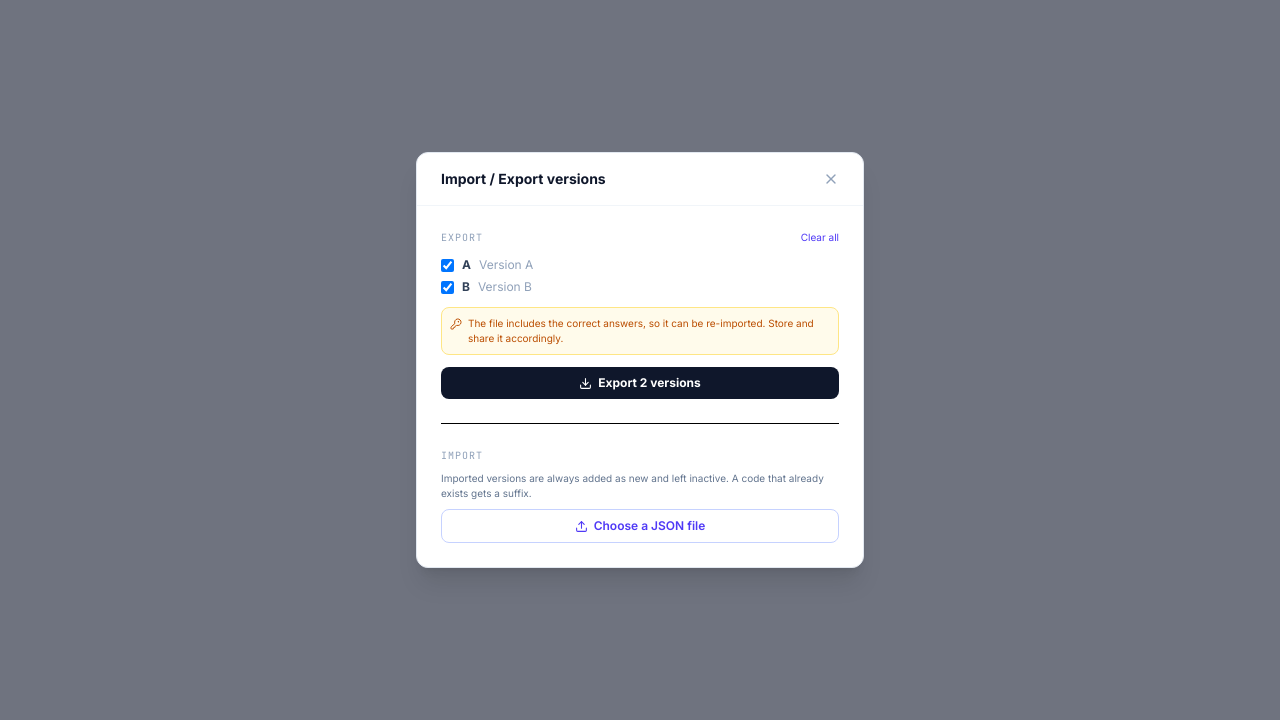
Test: ImportExportModal — export › clears and re-selects all
Click the button "Clear all". click: [820, 238]
box: [801, 230, 839, 245]
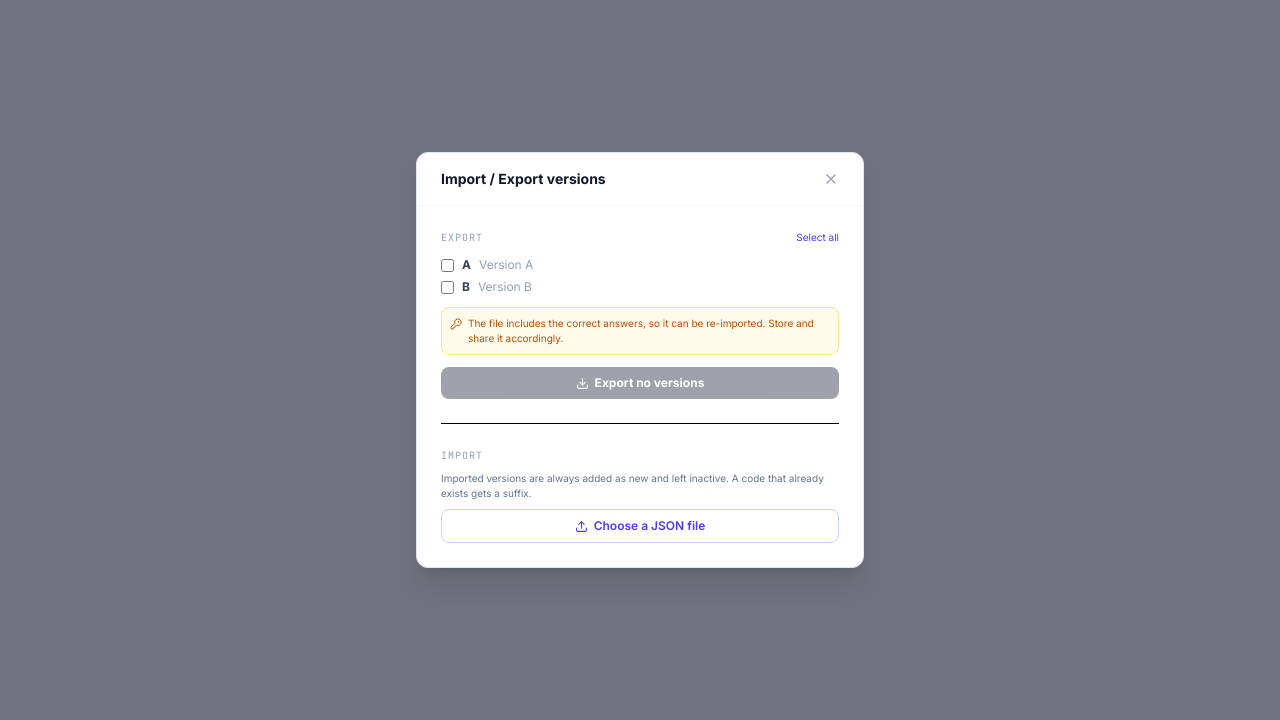
Result: the checkbox labelled "A Version A" is not checked at [441, 258, 454, 272]
Result: the checkbox labelled "B Version B" is not checked at [441, 280, 454, 294]
Result: the button "Export no versions" is disabled at [441, 367, 839, 399]
Click the button "Select all". click: [818, 238]
box: [796, 230, 839, 245]
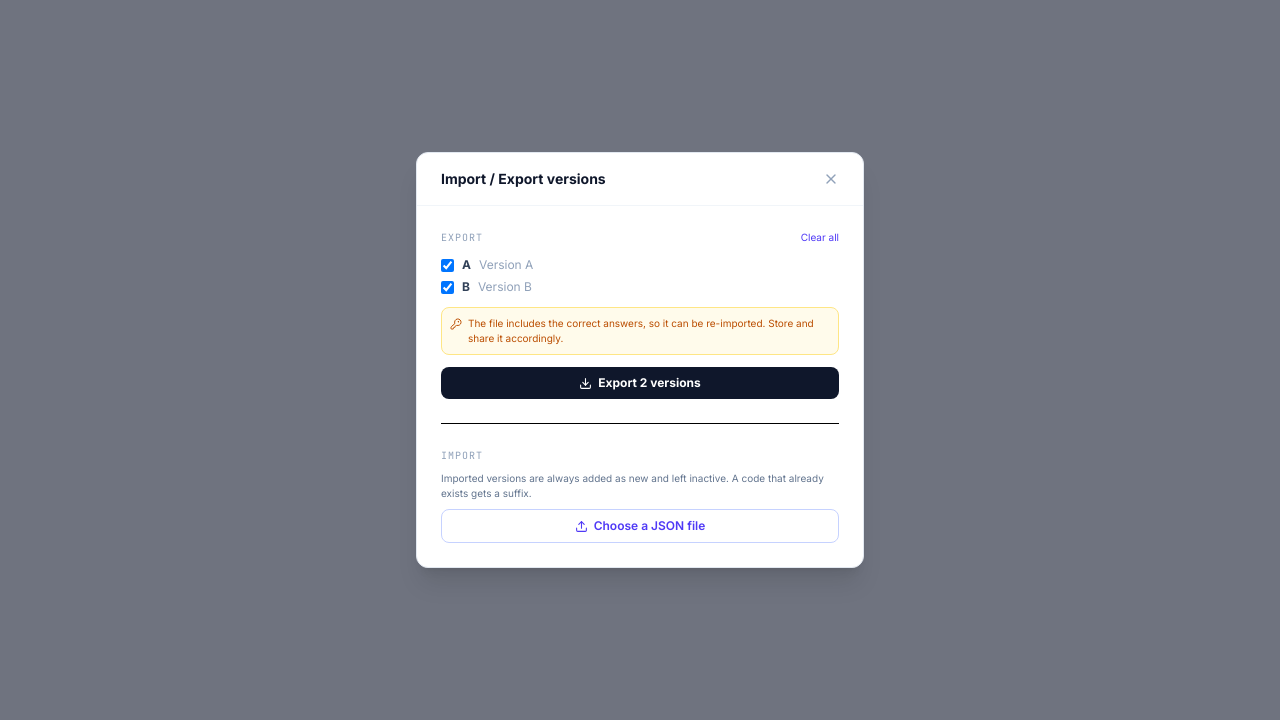
Result: the checkbox labelled "A Version A" is checked at [441, 258, 454, 272]
Result: the checkbox labelled "B Version B" is checked at [441, 280, 454, 294]
